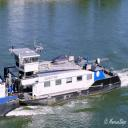tugboat: (5, 44, 123, 112)
